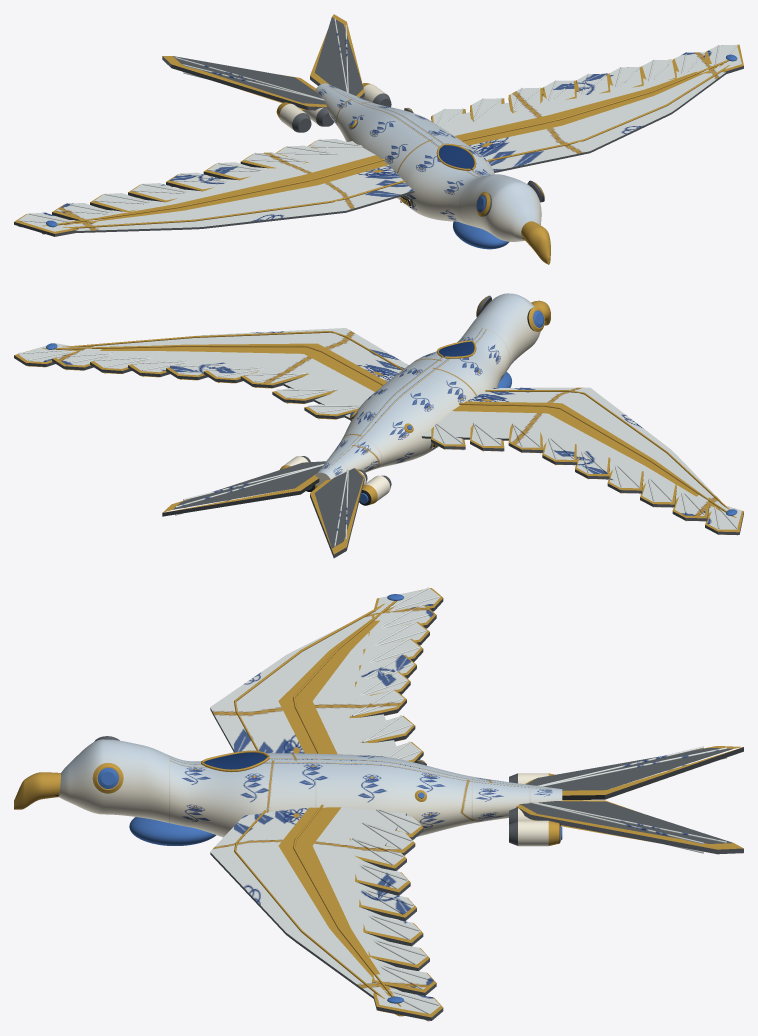
3 views of the same model, one above another, from view 1: azimuth 30°, elevation 25°; view 2: azimuth 150°, elevation 25°; view 3: azimuth 270°, elevation 25° (orthographic). The views are drawn at different scales.
Visible parts, largest first — view 1: frigatebird_hull; view 2: frigatebird_hull; view 3: frigatebird_hull.
Part boxes in pixels (x1,y1,x2,y2): frigatebird_hull: (14, 14, 743, 264); frigatebird_hull: (14, 293, 743, 558); frigatebird_hull: (14, 587, 743, 1021).
Size of the model in its own units: 272 by 29 by 195.
1 material, 1 textured.
